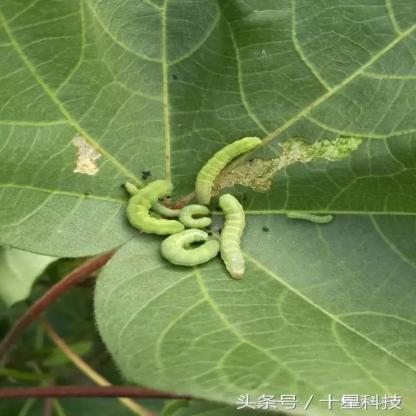armyworm: (193, 136, 261, 204), (125, 178, 184, 236), (218, 194, 248, 281), (161, 230, 223, 266), (124, 179, 184, 216), (284, 209, 338, 229), (178, 204, 212, 229)
